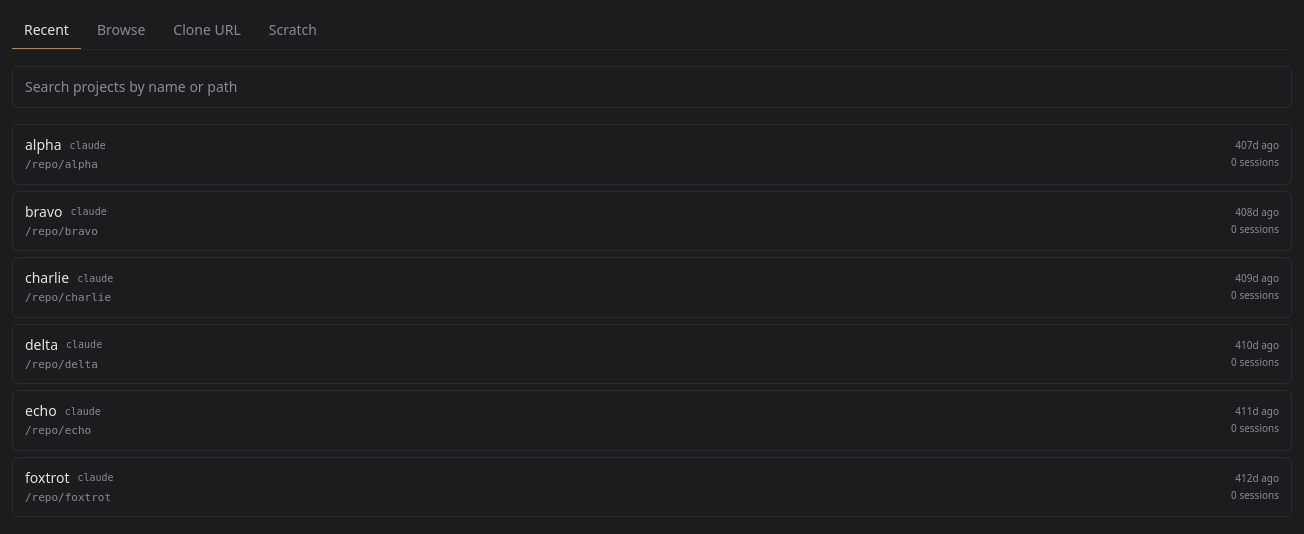
Test: project search › caps recents with an empty query and searches the full list by name or path
Expected: the text "foxtrot" is shown, [25, 468, 70, 488]
Expected: the text "golf" is not shown
Type "zeb" into the field labelled "Search projects" at (652, 87), box [12, 66, 1292, 108]
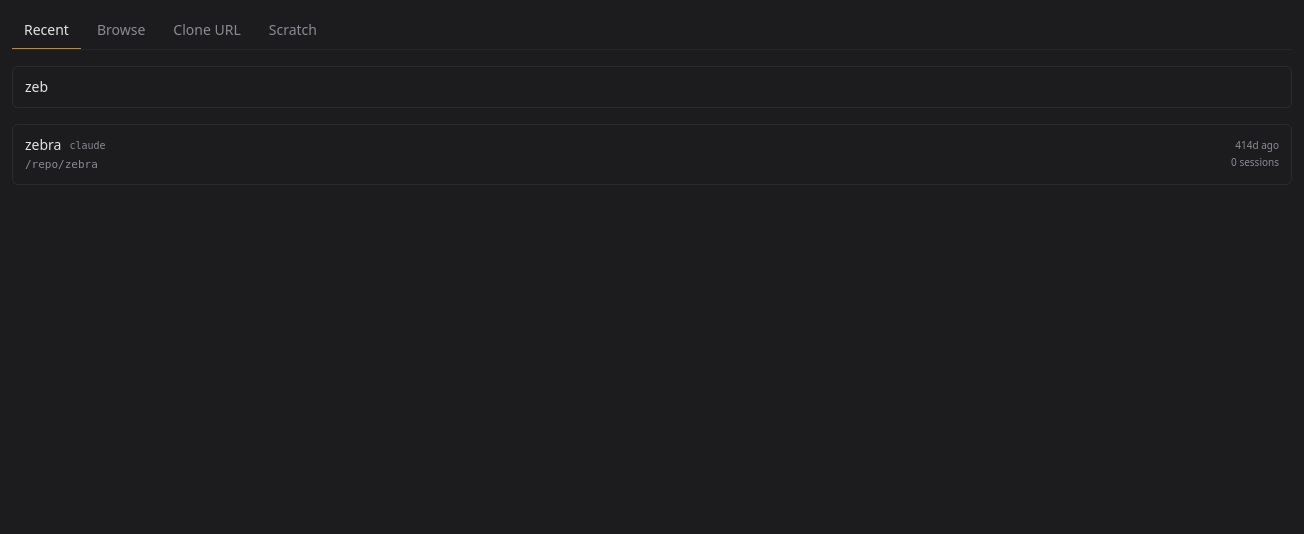
Now the text "zebra" is shown, box [25, 135, 62, 155]
Now the button "alpha" is gone
Replace the text in the field named "Search projects" with "/repo/golf" at (652, 87), box [12, 66, 1292, 108]
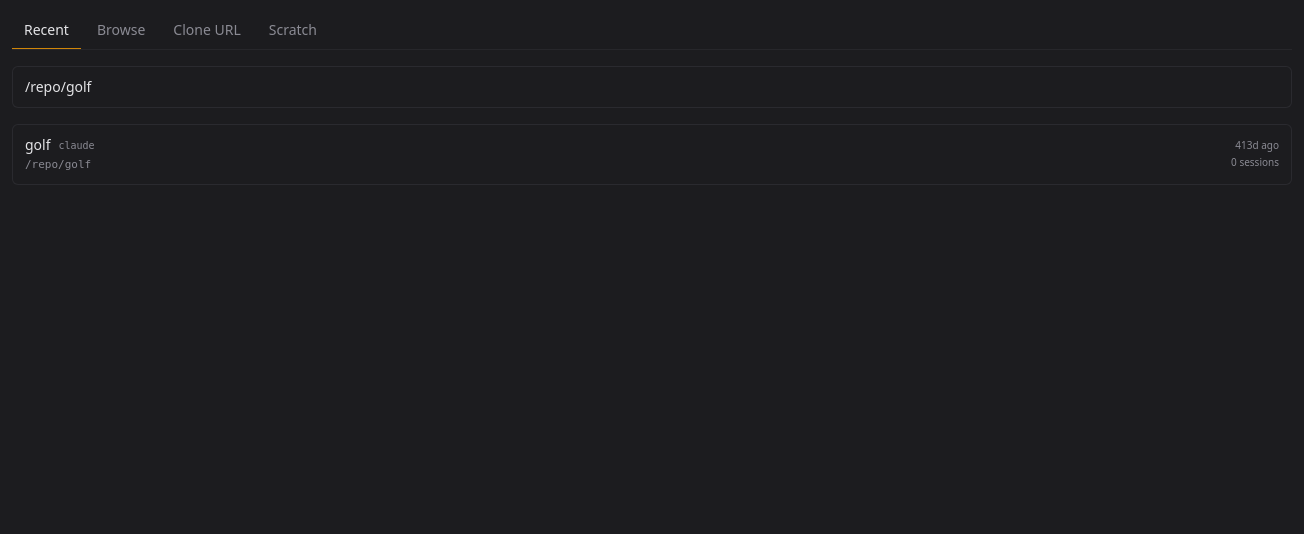
Now the text "golf" is shown, box [25, 135, 50, 155]
Clear the field named "Search projects" at (652, 87), box [12, 66, 1292, 108]
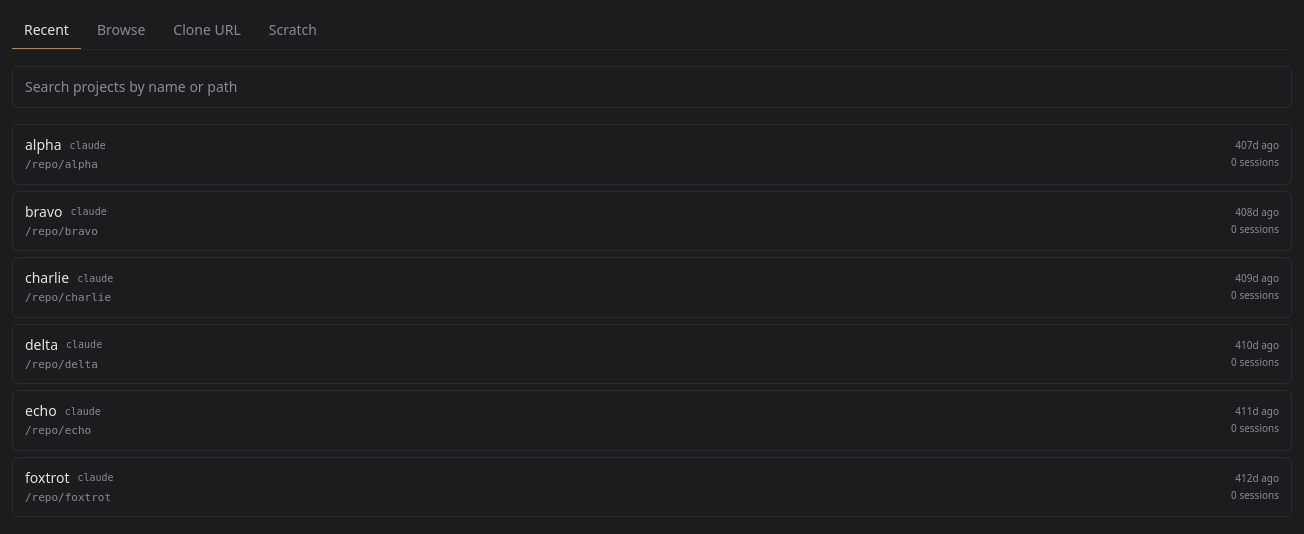
Expected: the button "zebra" is not shown
Now the text "alpha" is shown, box [25, 135, 62, 155]
